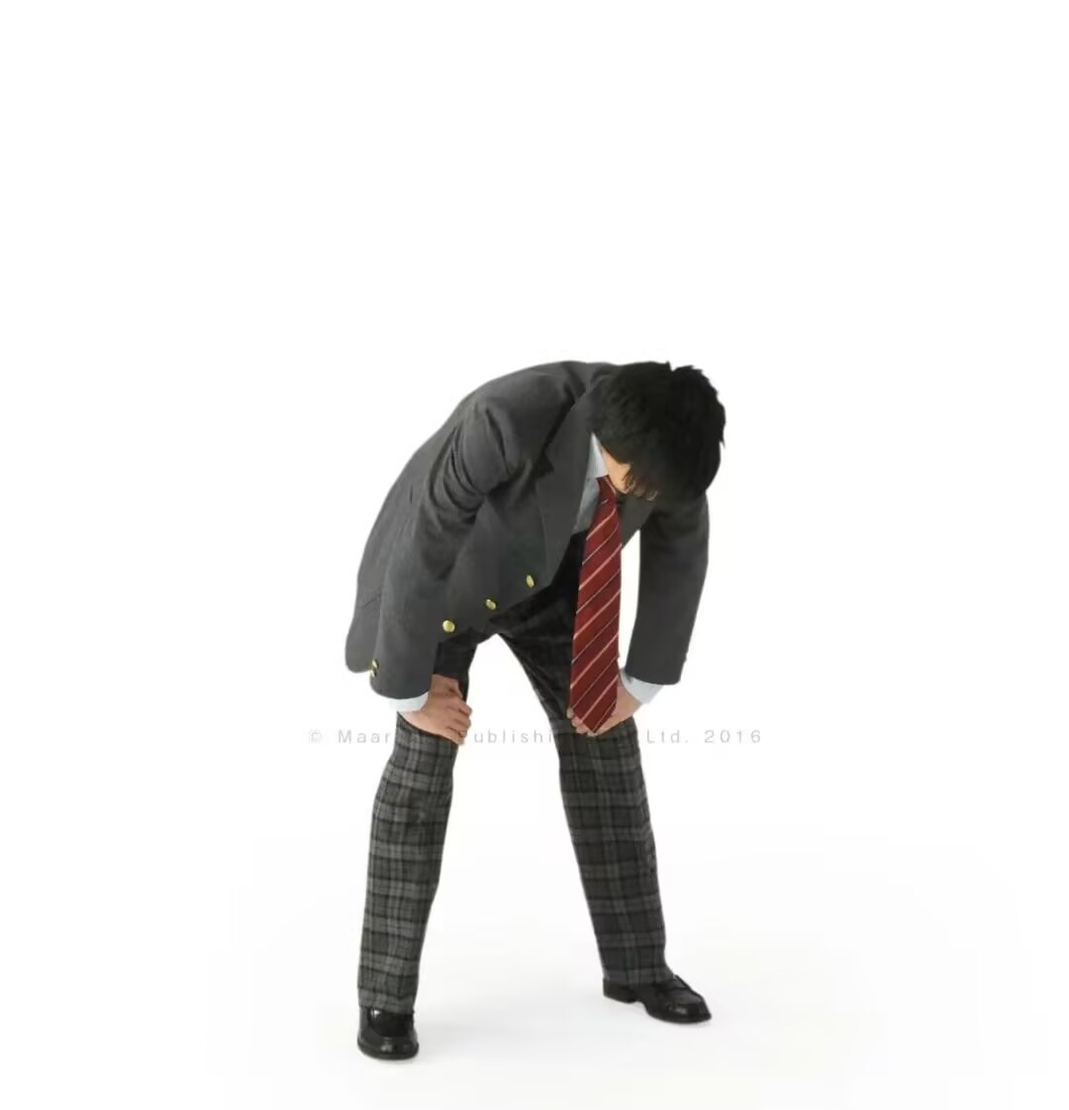bending: (298, 326, 781, 1073)
